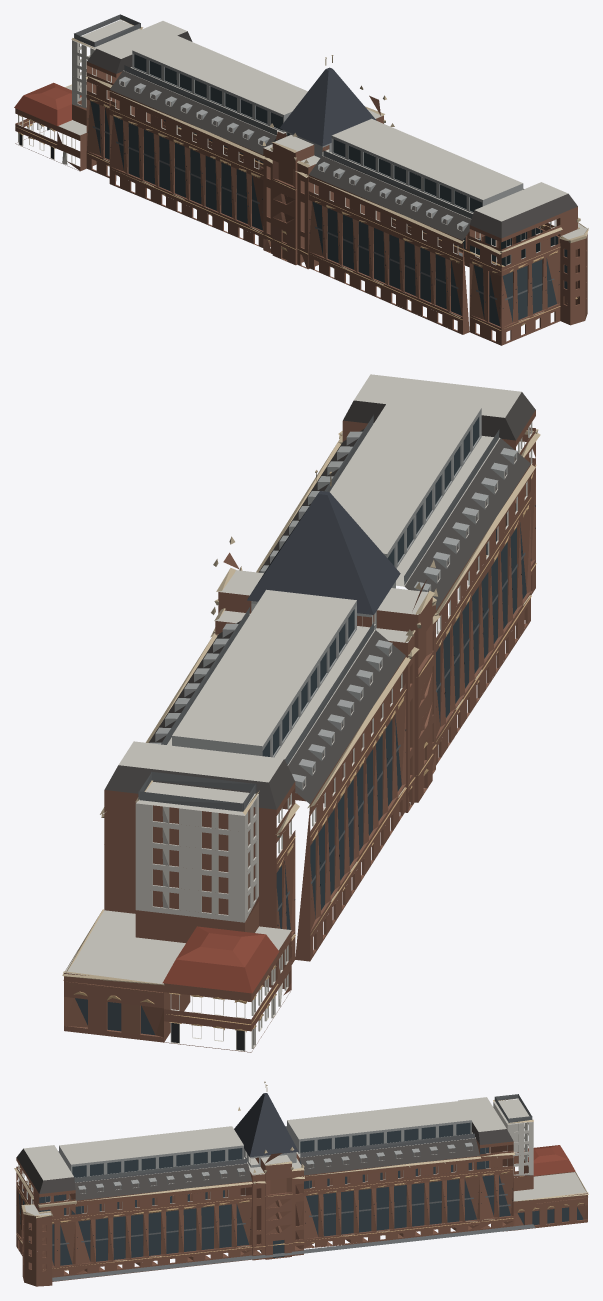
File: graansilo-korthals-altes.lod1.glb
The picture shows the model from 3 angles, top to bottom: view 1: azimuth 30°, elevation 25°; view 2: azimuth 150°, elevation 25°; view 3: azimuth 270°, elevation 25°; orthographic projection. The views are drawn at different scales.
Parts seen in each view (by area): view 1: graansilo-korthals-altes; view 2: graansilo-korthals-altes; view 3: graansilo-korthals-altes.
Boxes of the visible parts, box(x1,y1,x2,y2) form: graansilo-korthals-altes: box(14, 14, 588, 345); graansilo-korthals-altes: box(62, 374, 540, 1052); graansilo-korthals-altes: box(14, 1081, 588, 1286).
Size of the model in its own units: 52.58 by 36.15 by 122.
